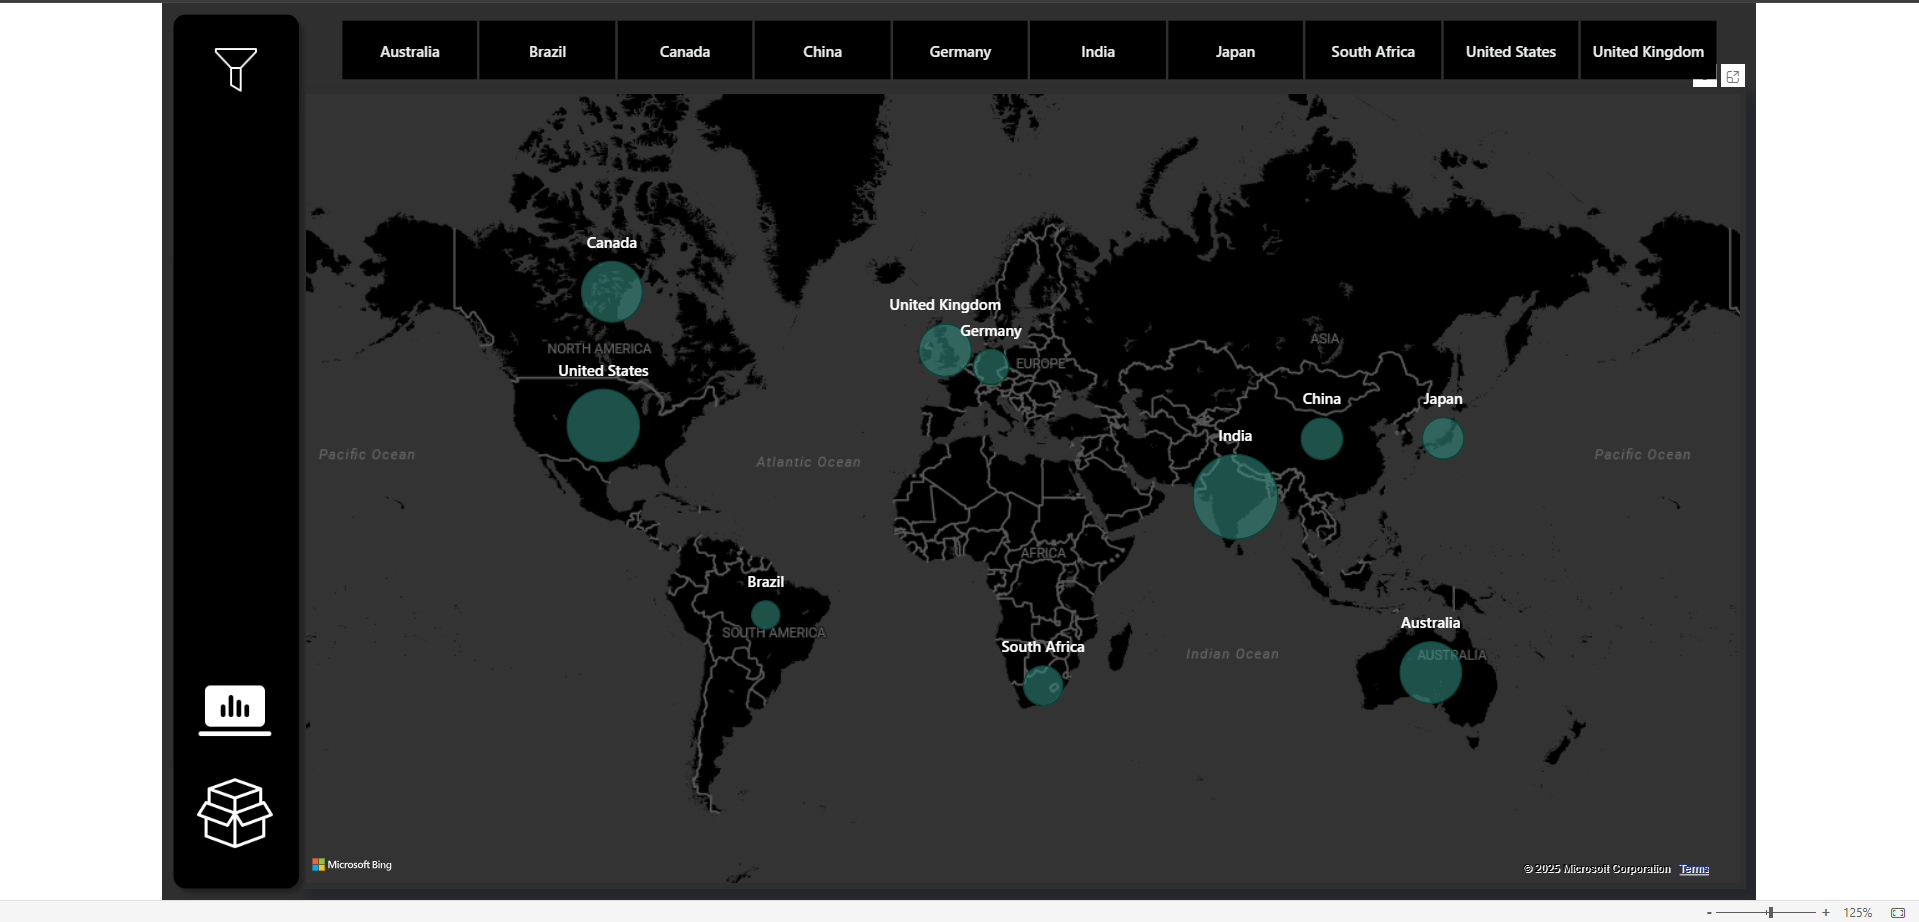

Layout of this report page (visuals, bound fields, positions):
{"tool":"powerbi","page":{"name":"Map Analysis","canvas":[1280,720],"ordinal":1},"visuals":[{"type":"shape","title":"Filter section","box":[0,0,119,720],"z":0},{"type":"image","title":"Filter Icon","box":[35,25.3,47.7,56.4],"z":1000},{"type":"image","title":"Dashboard icon","box":[15.8,531.2,85.7,71],"z":2000},{"type":"image","title":"Product icon","box":[15.8,614.6,85.7,71],"z":3000},{"type":"map","title":"Map Chart","fields":{"Category":["country.country"],"Size":["measure.Total Revenue"]},"box":[110.5,68.4,1161.1,643.2],"z":4000},{"type":"slicer","fields":{"Values":["country.country"]},"box":[118.9,7.4,1152.6,61.1],"z":5000}]}

Visuals, with their boxes on the page's 1280x720 design canvas (x1, y1, x2, y2). These are canvas units, not pixel positions in the 1919x922 screenshot, which may show the page scaled, cropped or inside an application window:
"Filter section" shape: (0,0,119,720)
"Filter Icon" image: (35,25,83,82)
"Dashboard icon" image: (16,531,102,602)
"Product icon" image: (16,615,102,686)
"Map Chart" map: (110,68,1272,712)
slicer - country.country: (119,7,1272,68)
